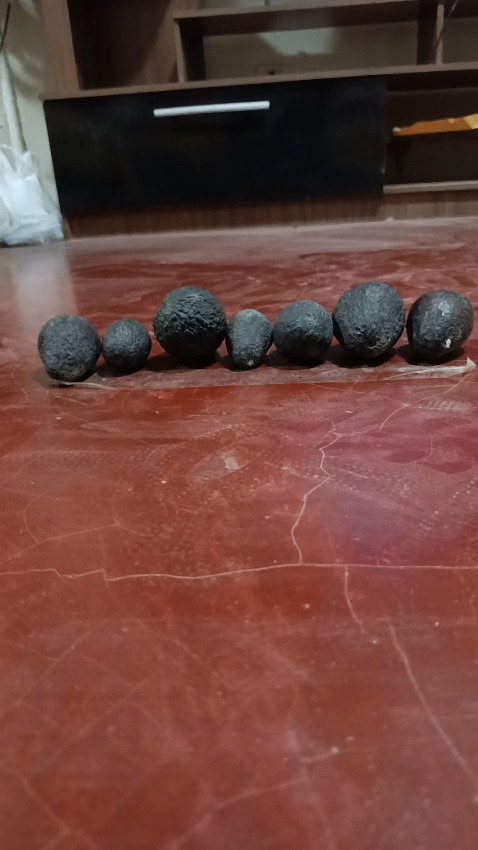Primera: (152, 284, 227, 365), (332, 280, 405, 361)
Segunda: (406, 289, 473, 363), (37, 314, 100, 382), (272, 301, 333, 364)
Tercera: (226, 309, 272, 369), (101, 318, 151, 372)
